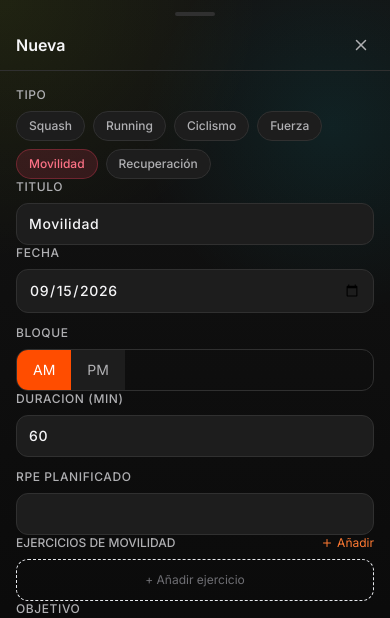
Test: SessionForm › mobility mantiene input de texto libre sin combobox
Click the button "+ Añadir ejercicio".
click(195, 580)  # box [16, 559, 374, 601]
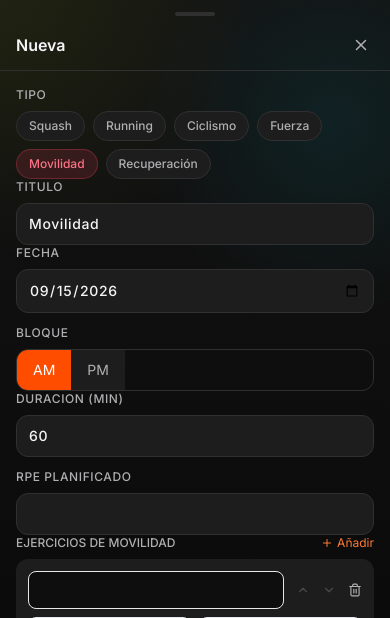
Check: the field named "Ejercicio 1" is shown, box [28, 571, 284, 609]
